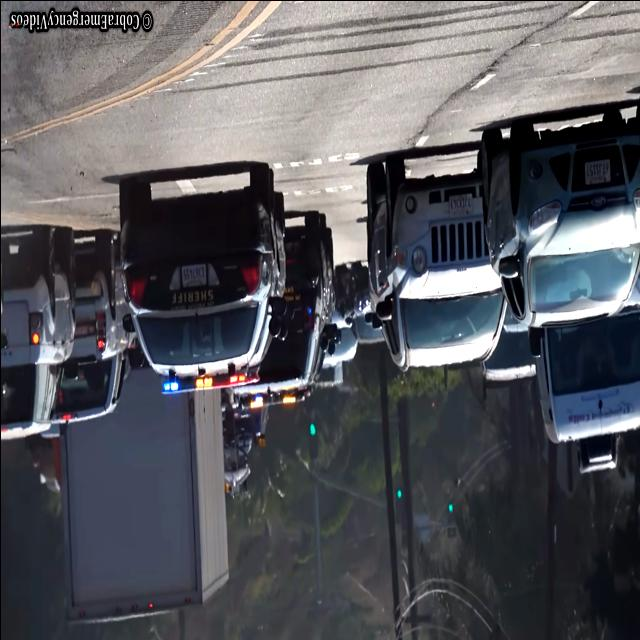emergency-vehicles: (84, 154, 320, 392)
